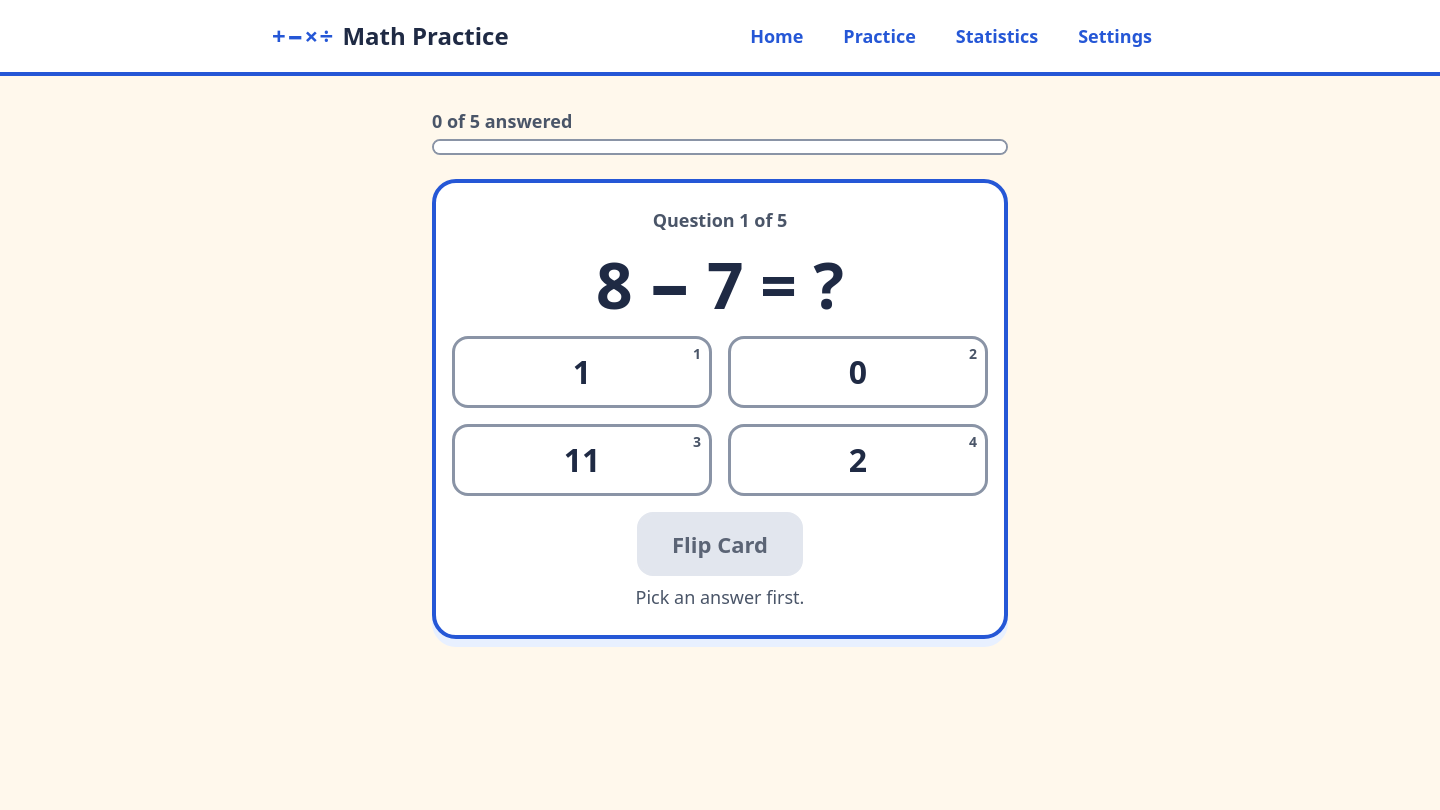
recording results › does not count anything for selecting or flipping
Click the button "1 1" at (582, 372), box x1=452 y1=336 x2=712 y2=408
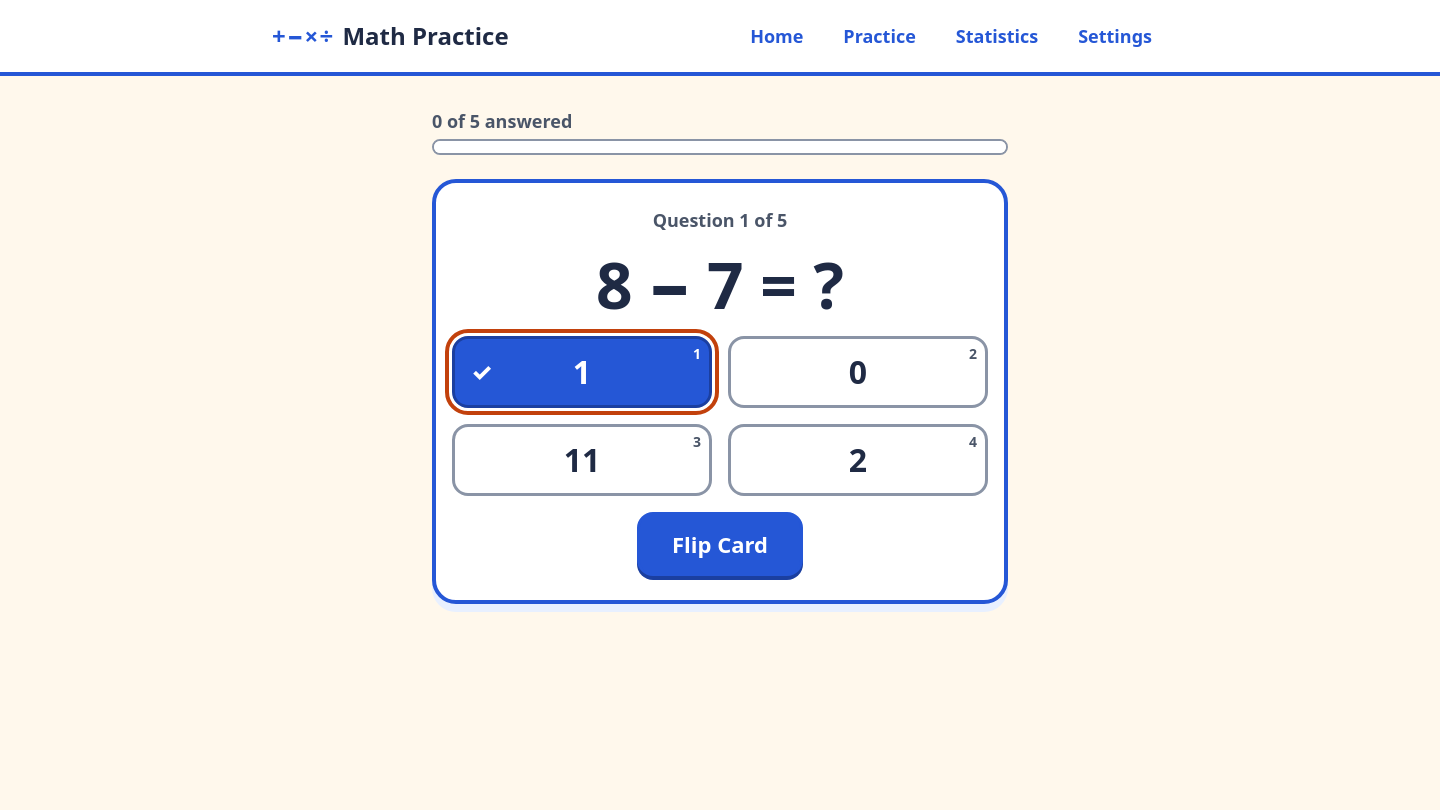
Click the button "Flip Card" at (720, 544), box x1=637 y1=512 x2=803 y2=576
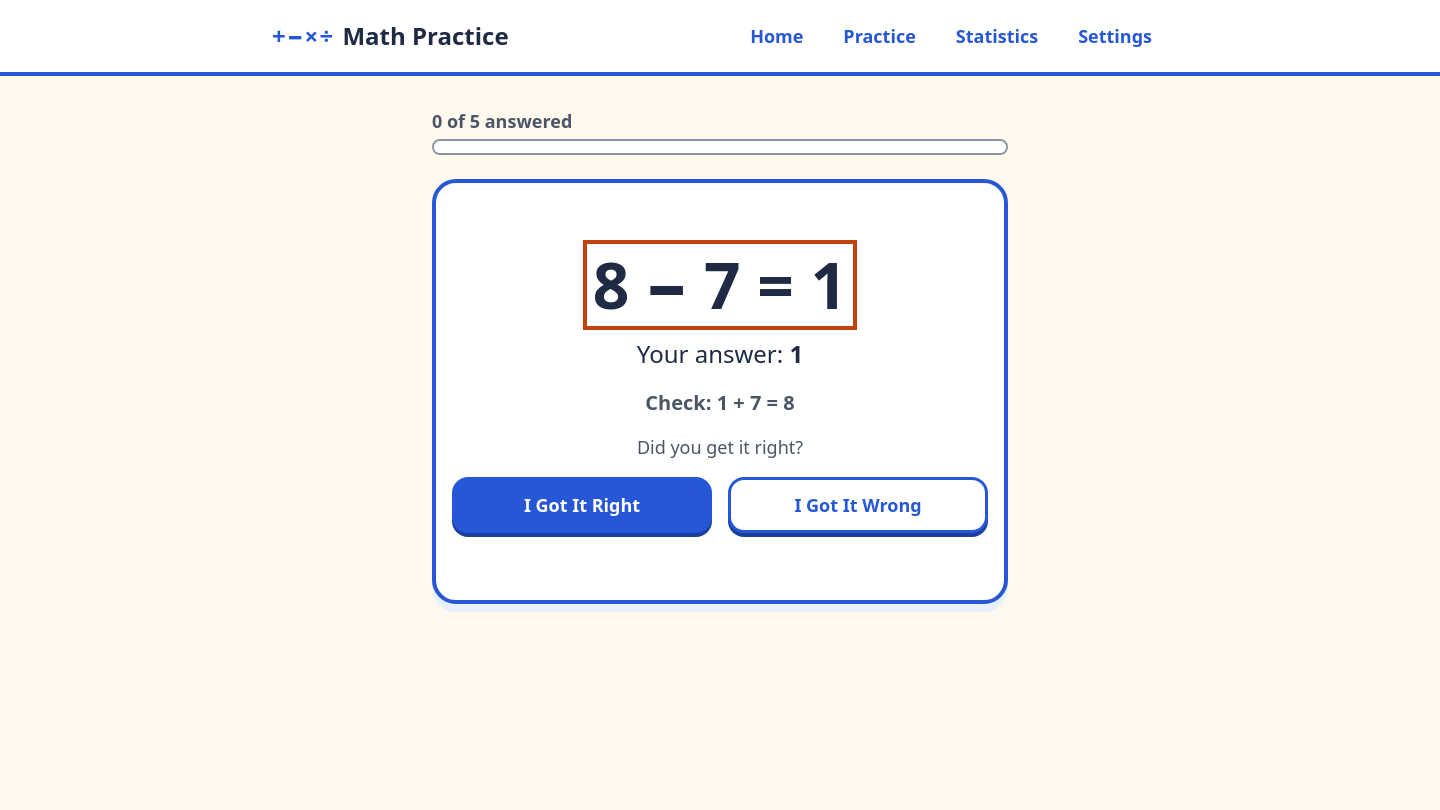
Expected: the label with class "session-progress__label" reads "0 of 5 answered", x1=432 y1=109 x2=572 y2=133
Expected: the text "Your answer: 1" is shown, x1=637 y1=336 x2=803 y2=372
